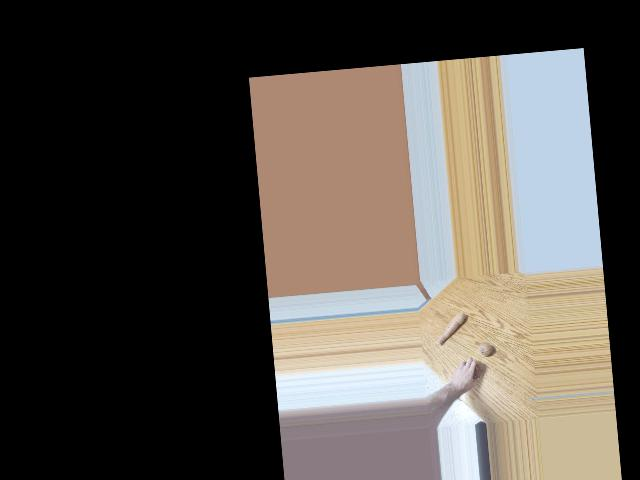onion: (466, 361, 482, 381)
